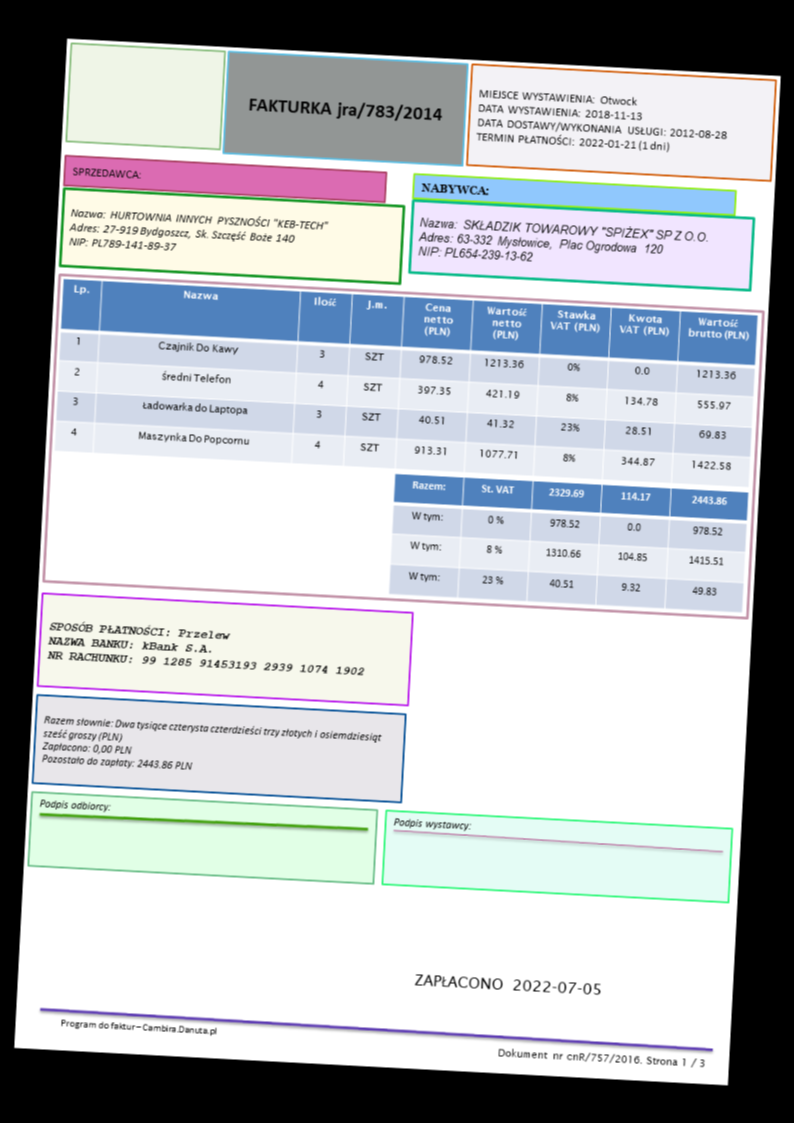Table: (52, 276, 758, 488), (387, 471, 748, 612)
TextBox: (38, 711, 384, 784), (46, 616, 367, 680), (414, 211, 709, 276), (473, 84, 732, 158), (65, 203, 329, 264), (244, 93, 445, 125), (411, 968, 601, 998), (495, 1044, 707, 1070), (57, 1014, 220, 1037), (389, 813, 472, 834), (67, 162, 142, 183), (37, 794, 112, 815), (417, 178, 491, 198)
